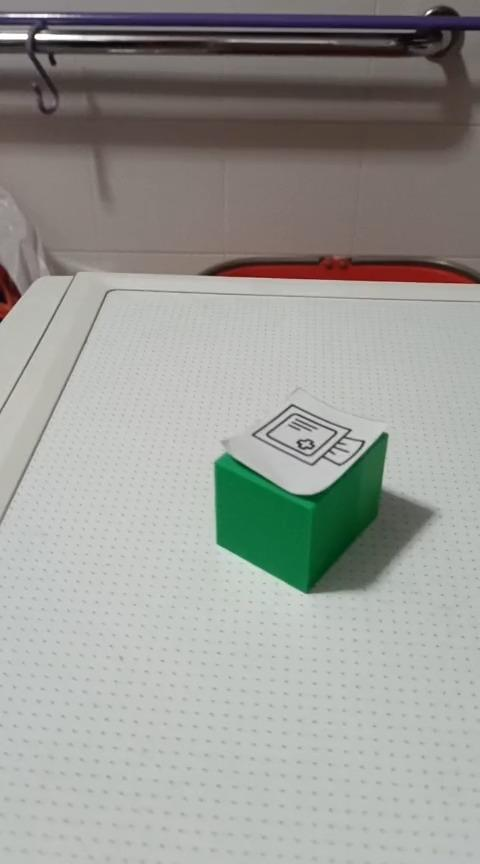Gauze: (212, 384, 389, 594)
